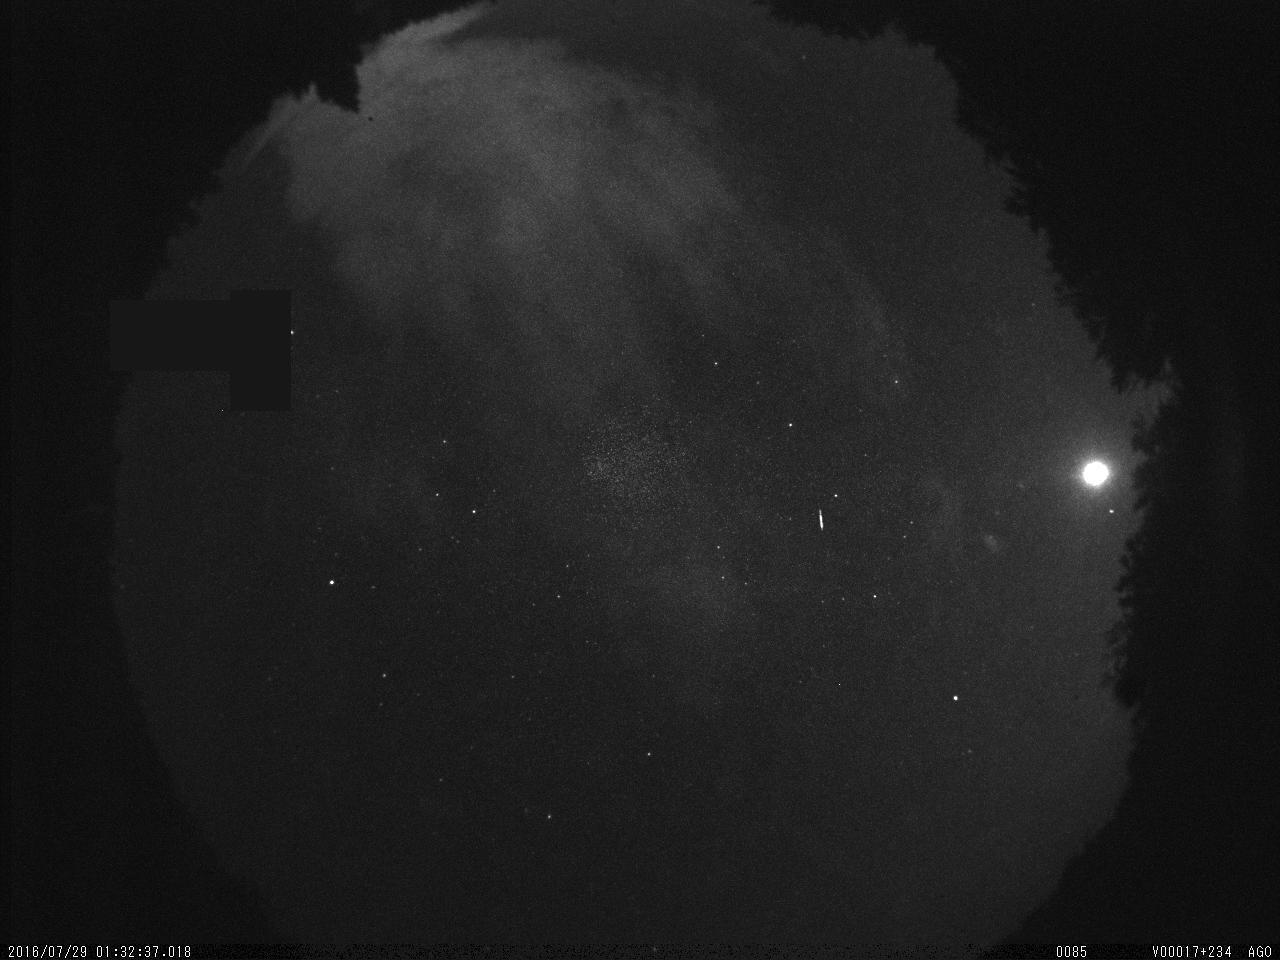Meteor: (812, 500, 829, 539)
